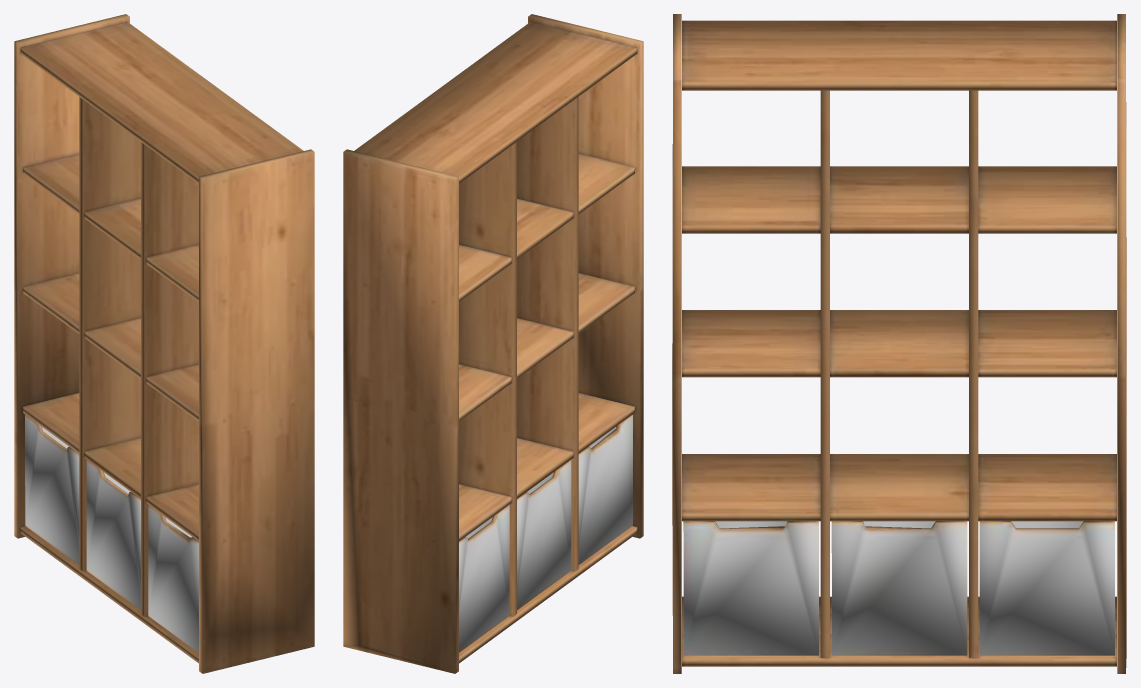
File: wooden_display_shelves_01.ktx2.glb
3 views of the same model, side by side, from view 1: azimuth 30°, elevation 25°; view 2: azimuth 150°, elevation 25°; view 3: azimuth 270°, elevation 25° (orthographic). The views are drawn at different scales.
Parts seen in each view (by area): view 1: wooden_display_shelves_01; view 2: wooden_display_shelves_01; view 3: wooden_display_shelves_01.
Boxes of the visible parts, x1,y1,x2,y2 form: wooden_display_shelves_01: (14,14,314,673); wooden_display_shelves_01: (343,14,643,673); wooden_display_shelves_01: (672,14,1126,673).
Bounding box in the file's own units: 0.3679 × 1.55 × 1.08.
Materials: 1 (1 with a texture image).
